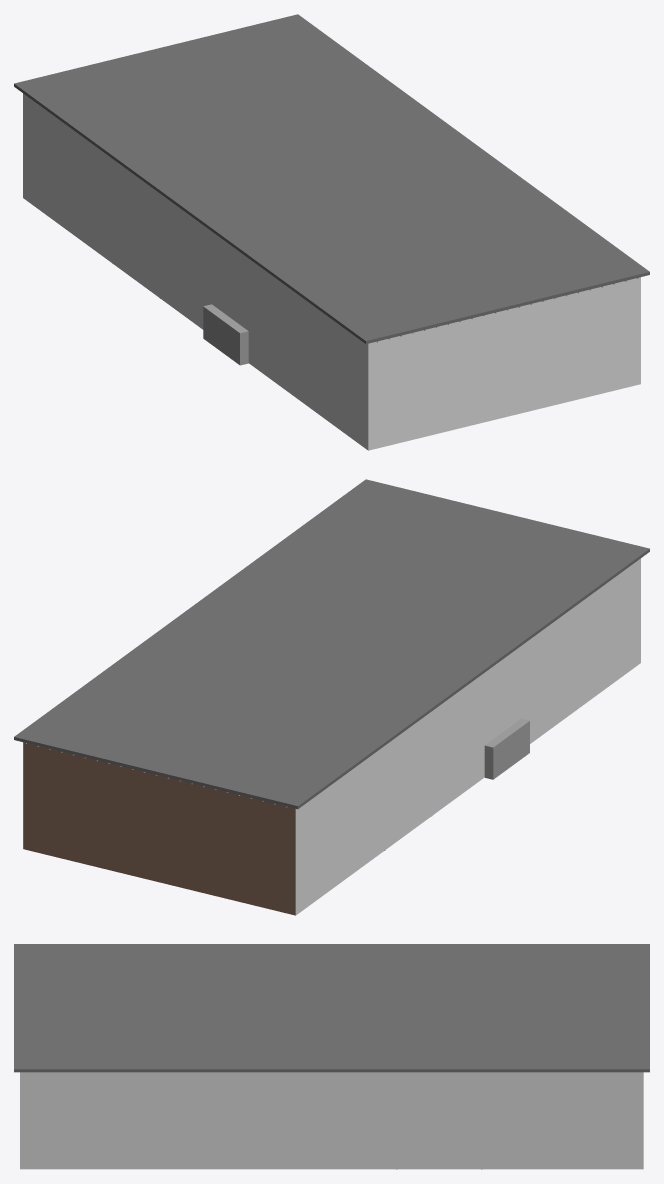
Rendered from Range_25m.fbx.
The picture shows the model from 3 angles, top to bottom: view 1: azimuth 30°, elevation 25°; view 2: azimuth 150°, elevation 25°; view 3: azimuth 270°, elevation 25°; orthographic projection. The views are drawn at different scales.
Parts seen in each view (by area): view 1: Structure_1, Extra; view 2: Structure_1, Extra; view 3: Structure_1.
Part boxes in pixels (<box>): Structure_1: <box>14,14,649,450</box>; Extra: <box>159,298,248,365</box>; Structure_1: <box>14,479,649,915</box>; Extra: <box>384,718,529,850</box>; Structure_1: <box>14,944,649,1169</box>.
Bounding box in the file's own units: 48.5 × 18.42 × 103.
